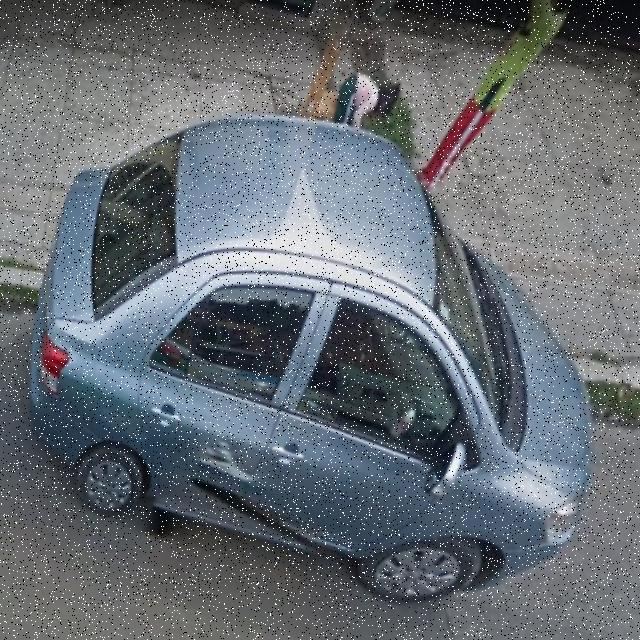cars: (33, 116, 594, 607)
